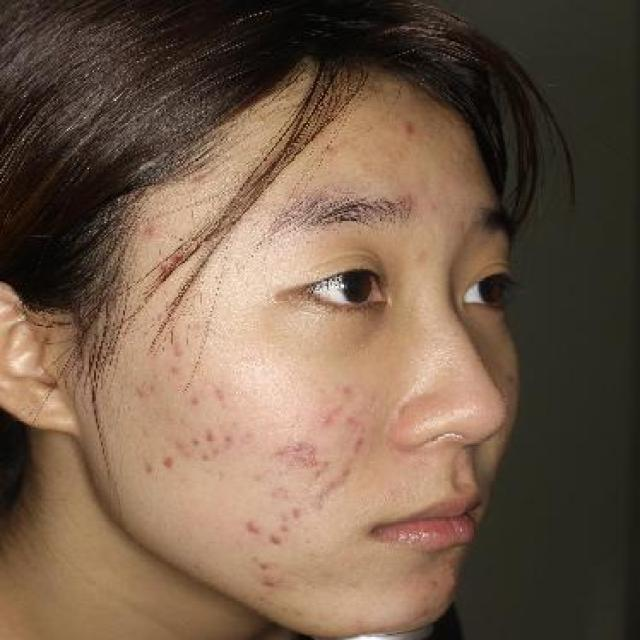dark spot: (270, 436, 330, 470), (339, 429, 376, 458), (238, 512, 269, 542), (394, 111, 424, 140), (320, 397, 342, 434), (337, 409, 370, 431), (328, 382, 364, 400), (135, 454, 159, 481), (178, 390, 207, 412), (156, 454, 180, 477), (266, 532, 294, 551), (214, 382, 236, 406), (282, 504, 308, 524), (219, 431, 238, 452), (252, 557, 277, 572), (262, 571, 280, 591), (202, 425, 221, 443), (190, 434, 205, 449)
